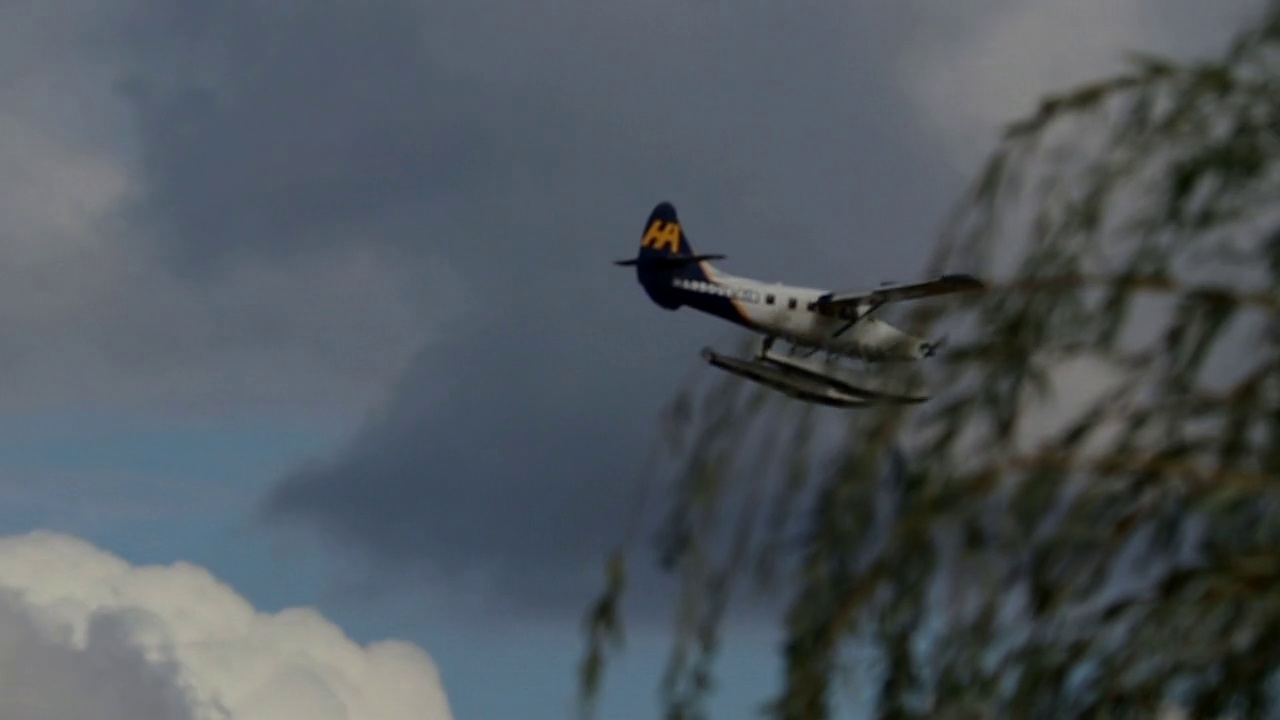plane: (614, 200, 982, 408)
